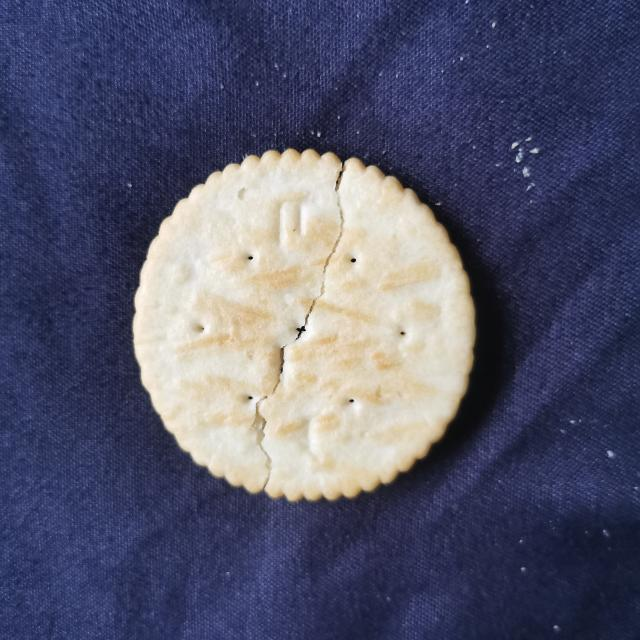Fracture: (241, 148, 377, 490)
